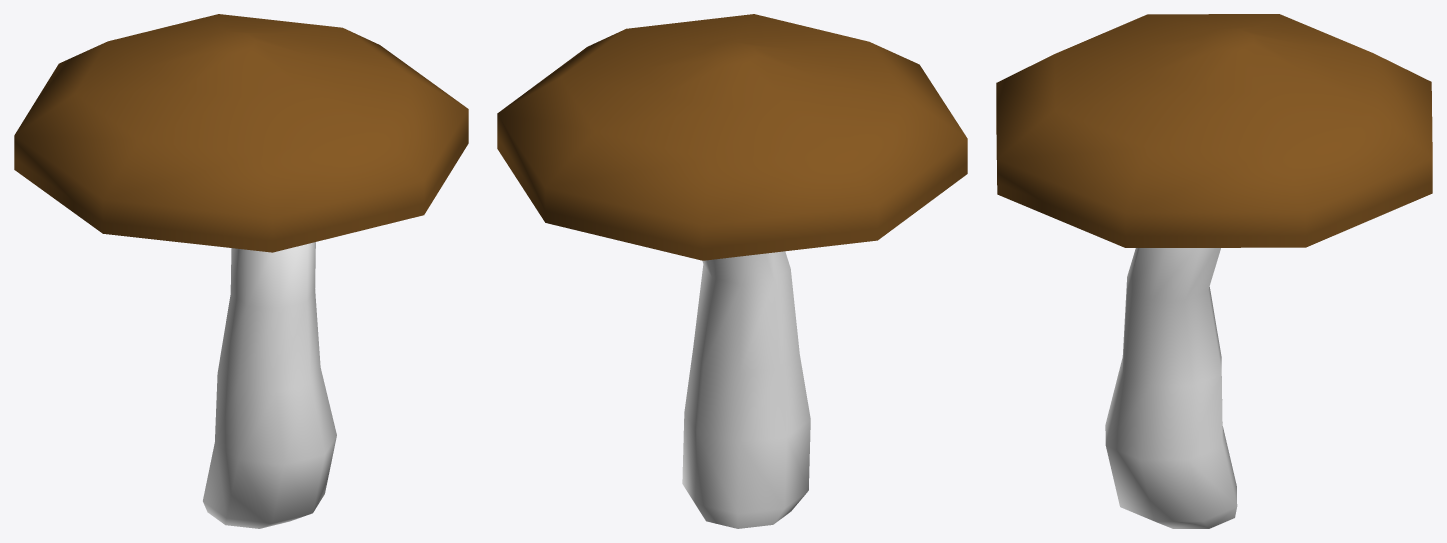
File: mushroom.fbx
The picture shows the model from 3 angles, left to right: view 1: azimuth 30°, elevation 25°; view 2: azimuth 150°, elevation 25°; view 3: azimuth 270°, elevation 25°; orthographic projection. The views are drawn at different scales.
Visible parts, largest first — view 1: mushroom3; view 2: mushroom3; view 3: mushroom3.
Part boxes in pixels (bbox=[...]): mushroom3: bbox=[14, 14, 468, 528]; mushroom3: bbox=[497, 14, 967, 528]; mushroom3: bbox=[996, 14, 1432, 528].
Bounding box in the file's own units: 165 × 196 × 165.
